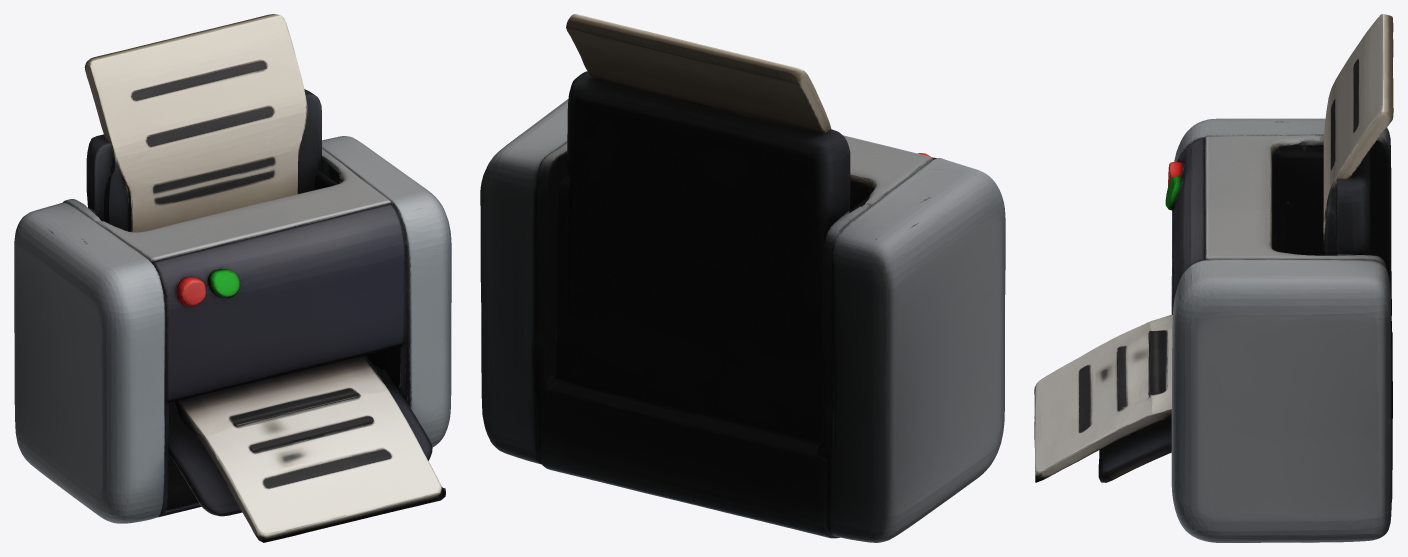
The model's file is Selenio.fbx.
3 views of the same model, side by side, from view 1: azimuth 30°, elevation 25°; view 2: azimuth 150°, elevation 25°; view 3: azimuth 270°, elevation 25° (orthographic). The views are drawn at different scales.
Parts seen in each view (by area): view 1: geometry_0.001; view 2: geometry_0.001; view 3: geometry_0.001.
Part boxes in pixels (x1=…): geometry_0.001: x1=14, y1=14, x2=451, y2=542; geometry_0.001: x1=480, y1=14, x2=1005, y2=542; geometry_0.001: x1=1034, y1=14, x2=1393, y2=542.
Size of the model in its own units: 0.3141 by 0.3485 by 0.2705.
Materials: 1 (1 with a texture image).
